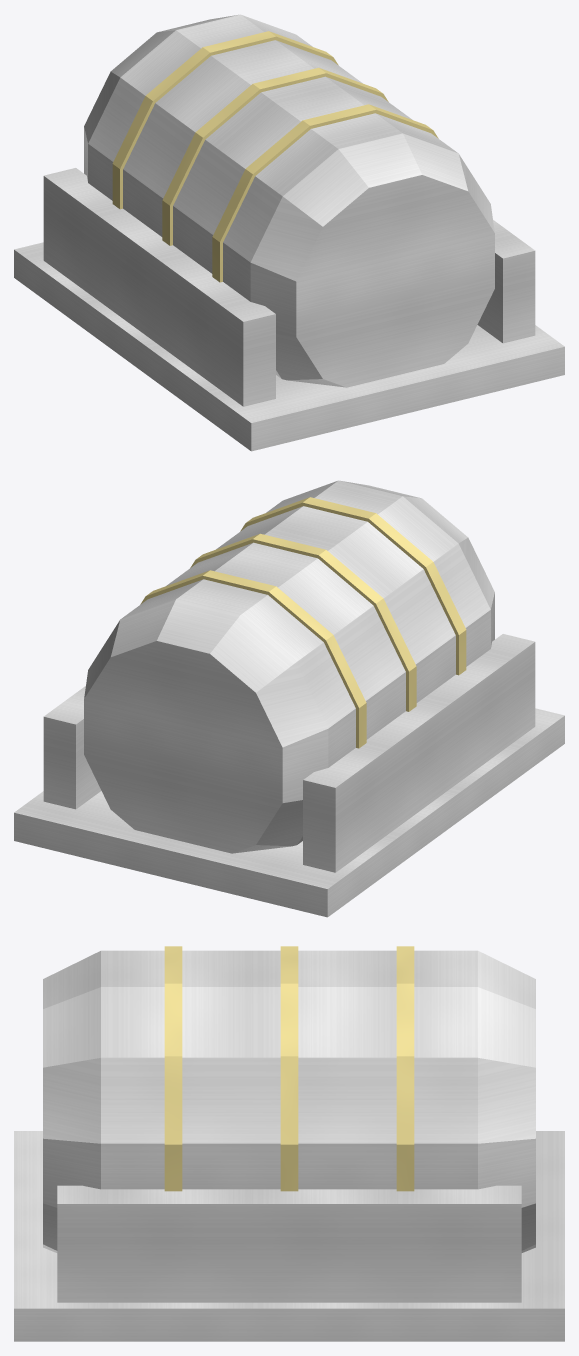
Rendered from ship_reactor.obj.
3 views of the same model, one above another, from view 1: azimuth 30°, elevation 25°; view 2: azimuth 150°, elevation 25°; view 3: azimuth 270°, elevation 25° (orthographic). The views are drawn at different scales.
Visible parts, largest first — view 1: ship_reactor; view 2: ship_reactor; view 3: ship_reactor.
Part boxes in pixels (x1,y1,x2,y2): ship_reactor: [14, 14, 564, 451]; ship_reactor: [14, 480, 564, 917]; ship_reactor: [14, 946, 564, 1341].
Bounding box in the file's own units: 2.9 × 2.28 × 3.8.
